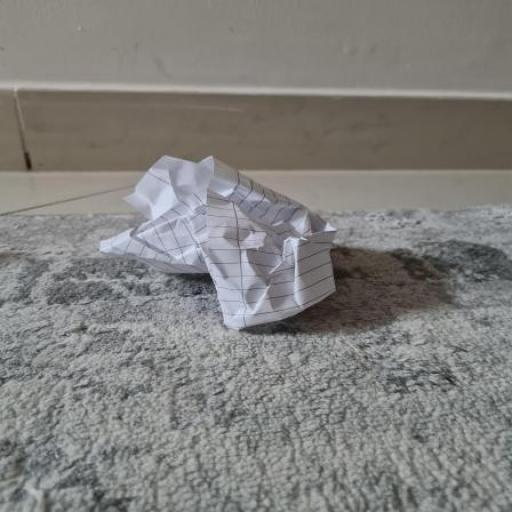paper: (102, 152, 347, 338)
